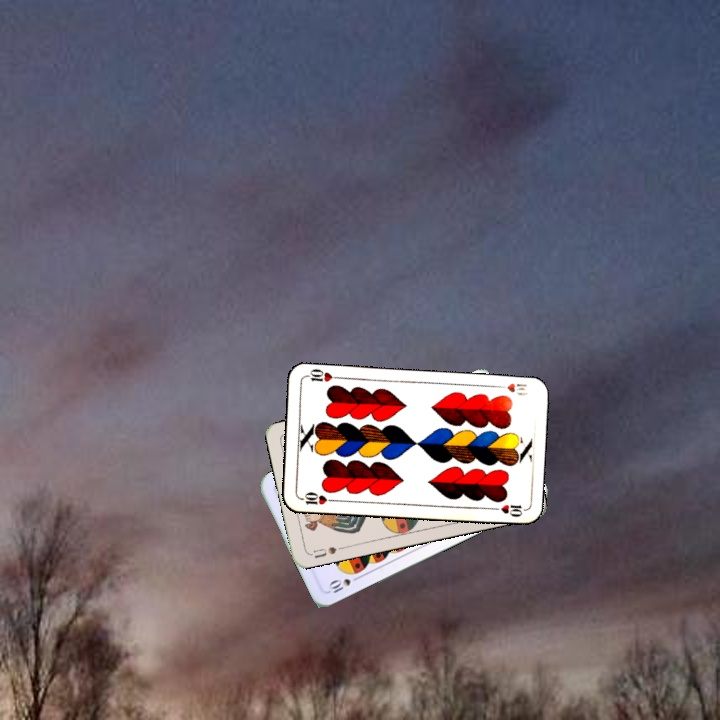H10: (297, 488, 337, 507), (492, 379, 530, 399)
S10: (324, 572, 363, 596)
SU: (306, 542, 346, 561)
